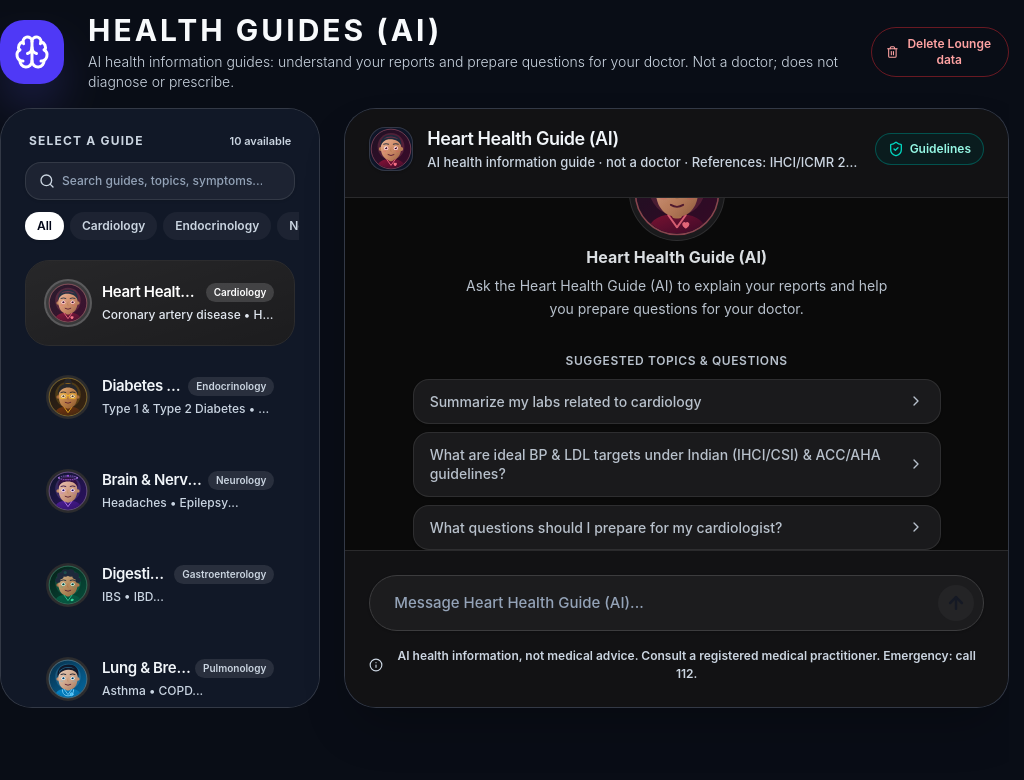
Test case: SpecialistLounge safety wiring › does not auto-save model referral tags; strips them and requires a tap to save
(page scrolled)
Type "Are my kidney numbers ok?" into the field labelled "Message Heart Health Guide (AI)..." at {"x": 677, "y": 603}, box [369,574,984,631]
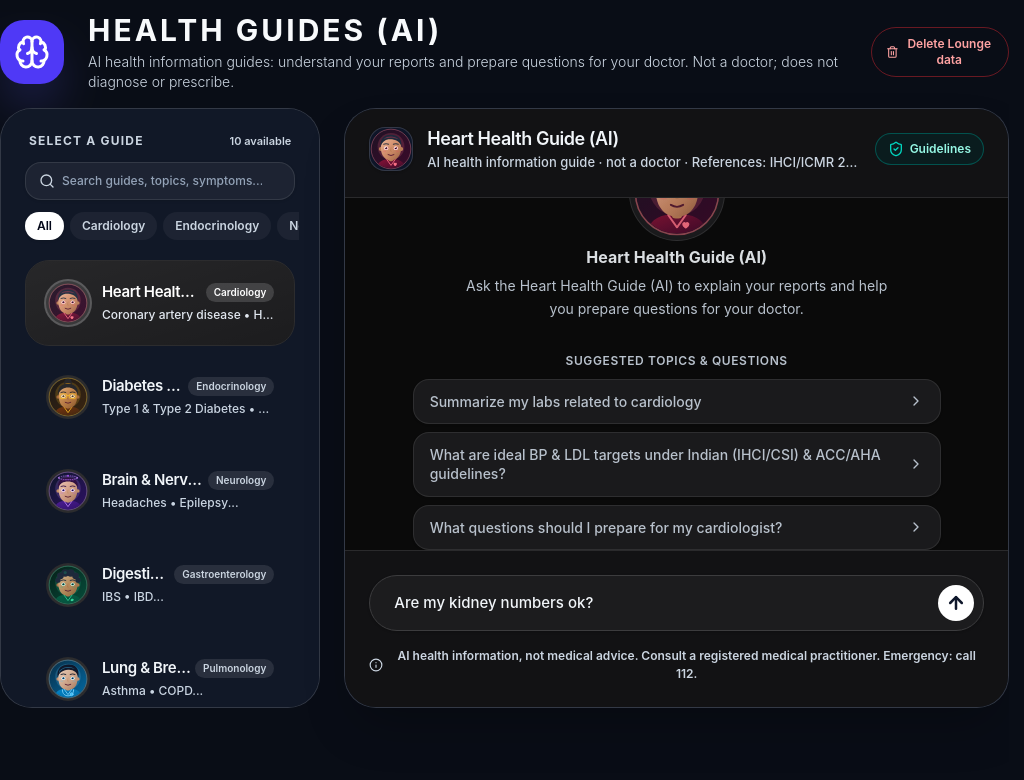
Submit the form, box [369,574,984,631]
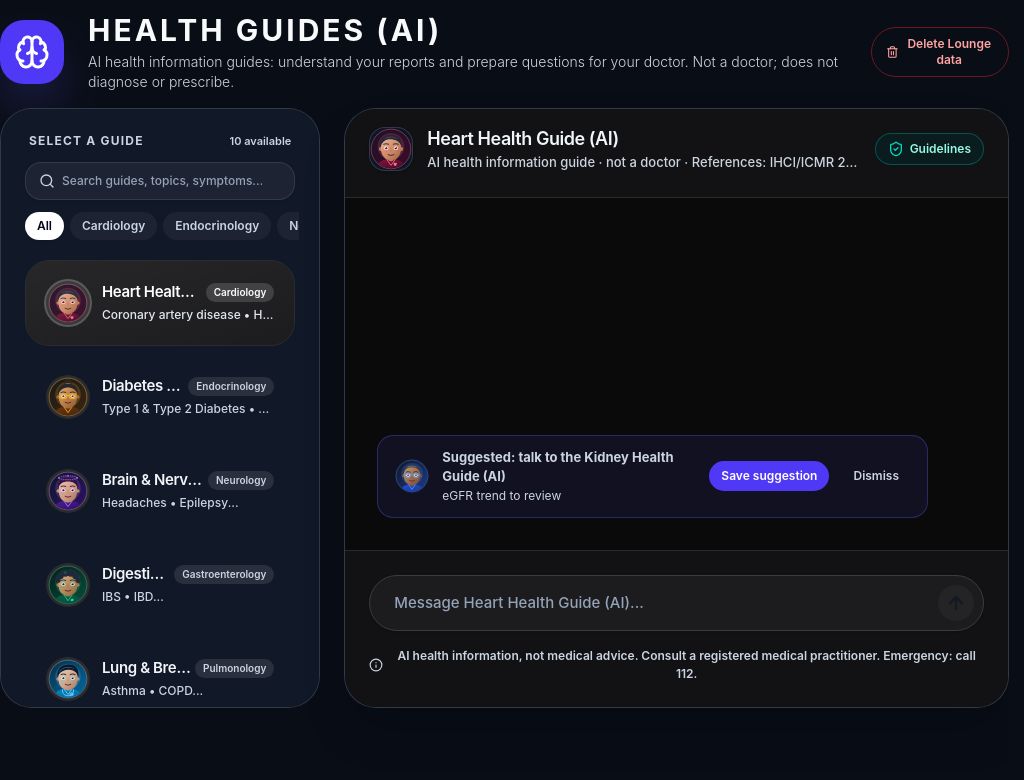
Expected: the element with test id "referral-suggestion-chip" shows "Kidney Health Guide (AI)", [442,448,674,484]
Expected: the element with test id "referral-suggestion-chip" shows "eGFR trend to review", [442,488,561,502]
Click the button "Save suggestion" at {"x": 769, "y": 476}, box [709,461,830,491]
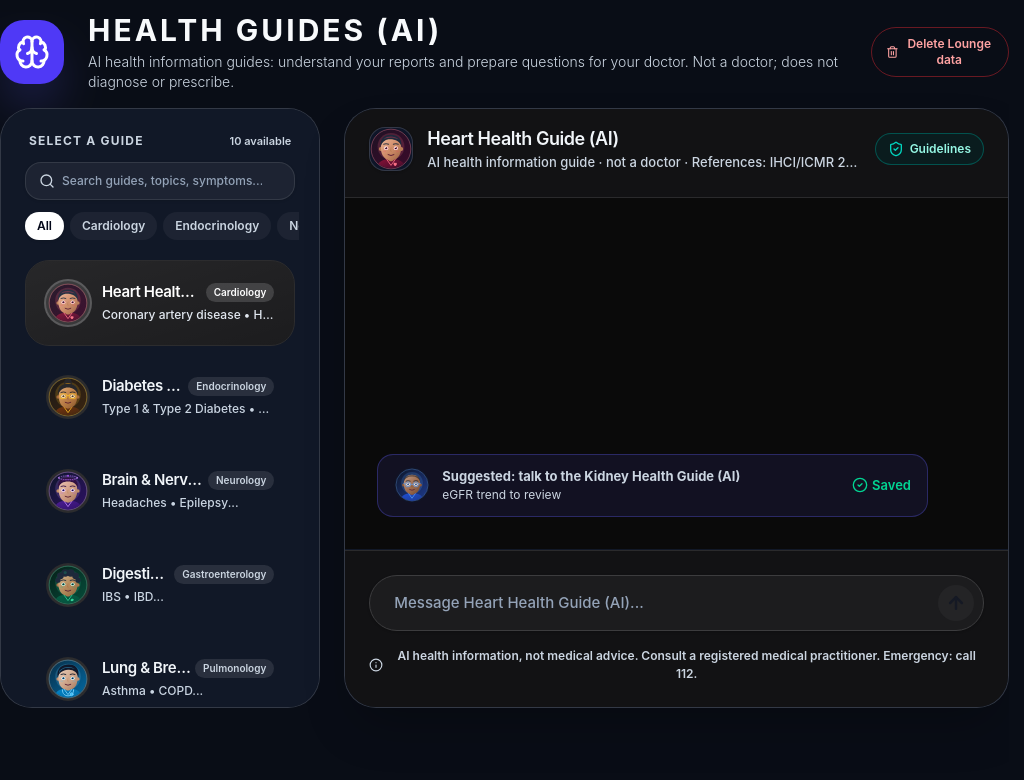
Expected: the element with test id "referral-suggestion-chip" shows "Saved", [872,476,911,492]
